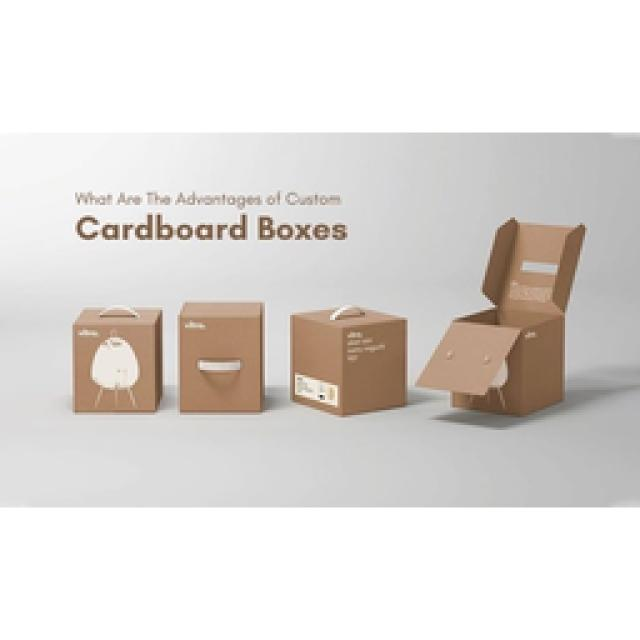cardboard: (415, 220, 582, 412), (290, 308, 405, 412), (72, 308, 160, 410), (180, 302, 260, 410)
